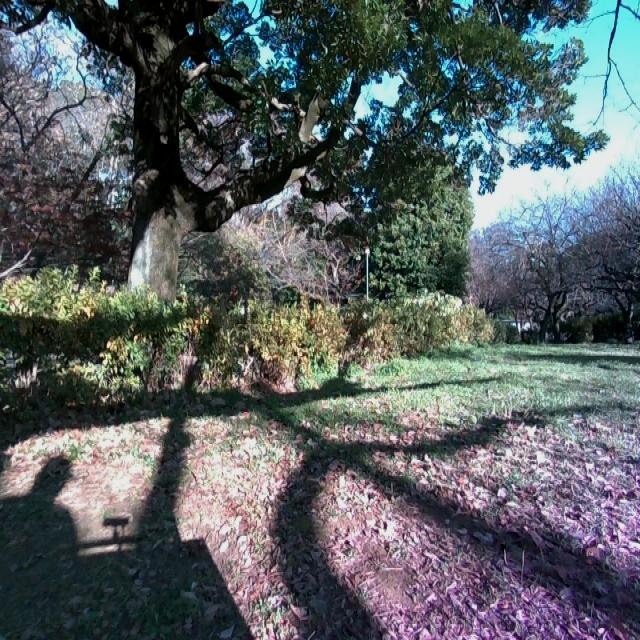bush: (2, 257, 507, 404)
tree: (51, 0, 358, 292), (535, 214, 591, 340)
